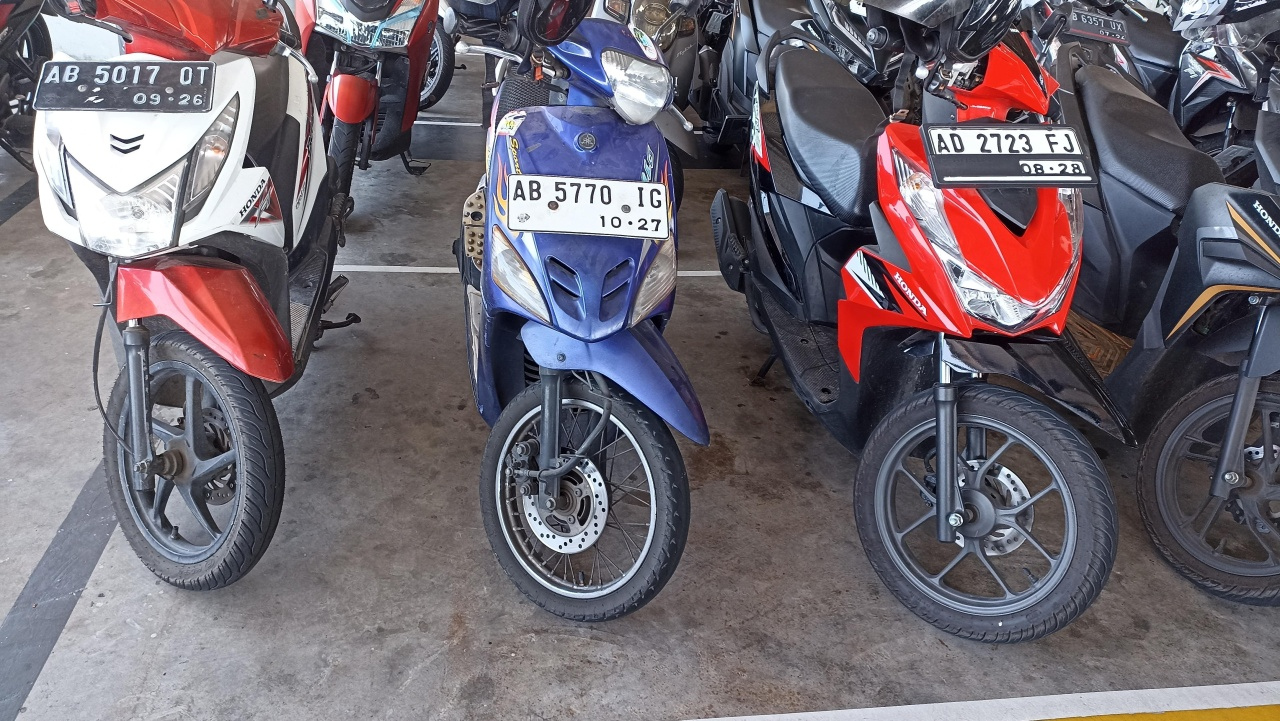plate: (921, 125, 1099, 188), (507, 174, 669, 241), (31, 60, 216, 111), (1065, 7, 1131, 46)
